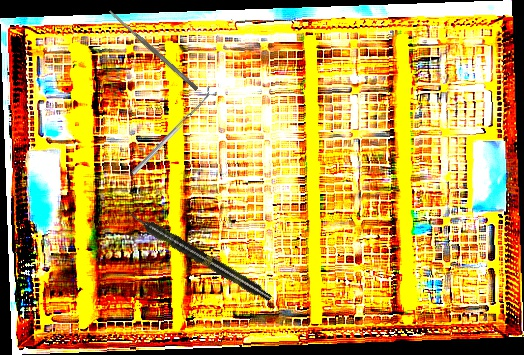Handpiece: (123, 206, 275, 305)
Spatula Surgical: (128, 86, 215, 175), (108, 8, 199, 92)
